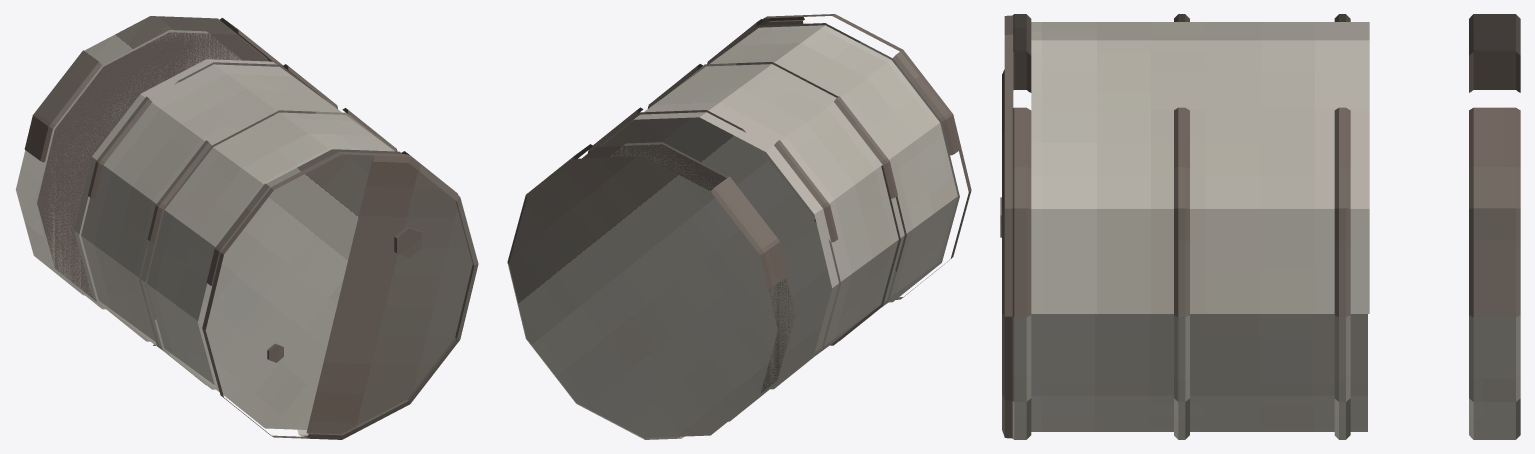
3 views of the same model, side by side, from view 1: azimuth 30°, elevation 25°; view 2: azimuth 150°, elevation 25°; view 3: azimuth 270°, elevation 25° (orthographic). The views are drawn at different scales.
Size of the model in its own units: 0.7448 by 0.7448 by 0.9059.
